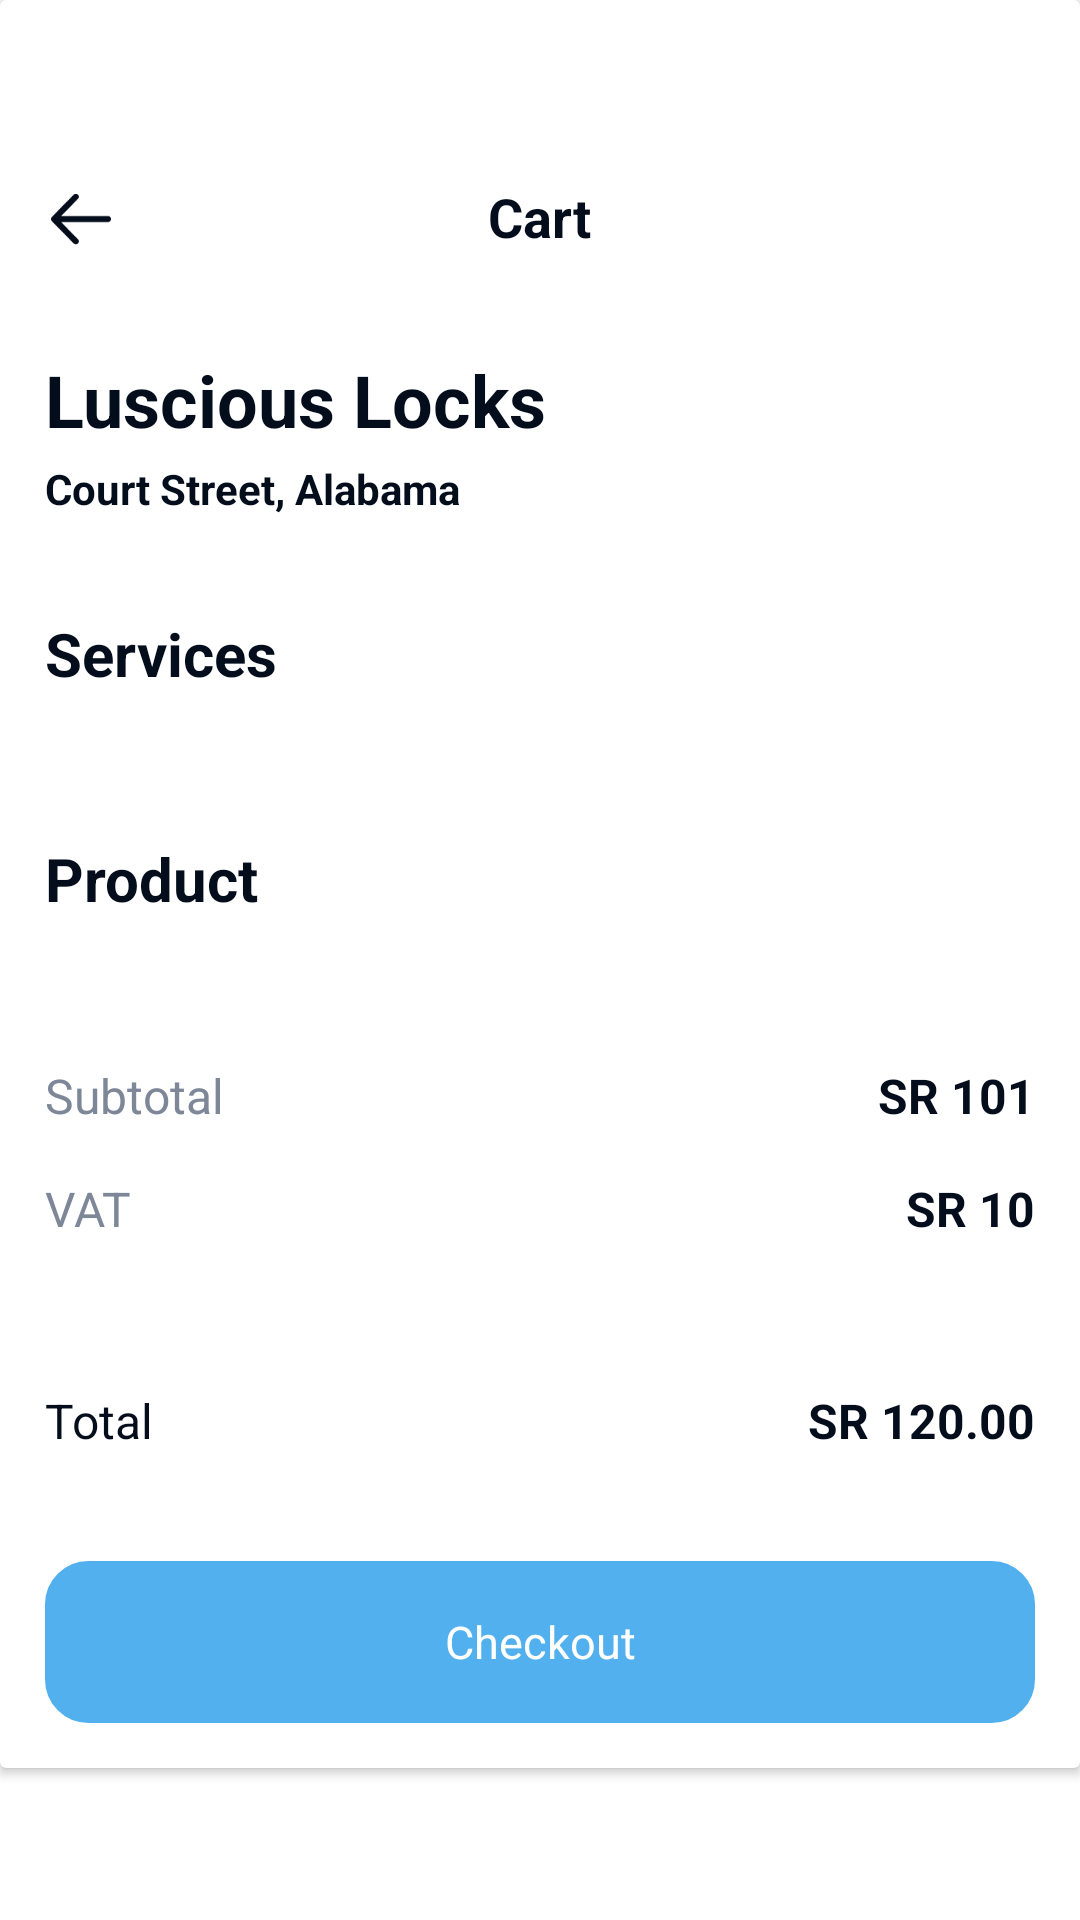

Named icons in this screenshot (1080×1920) and their bounding boxes, Rect(x1, y1, x2, y2):
arrow left: Rect(51, 194, 111, 245)
